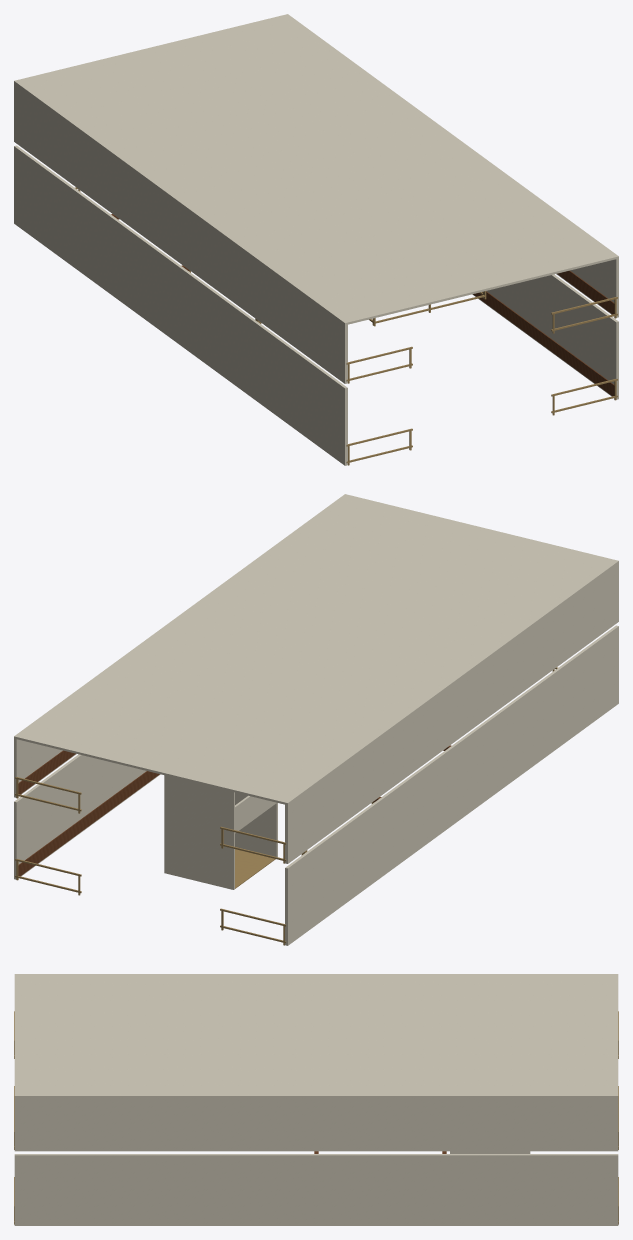
The model's file is AST-CIR-005_upper_link.glb.
The picture shows the model from 3 angles, top to bottom: view 1: azimuth 30°, elevation 25°; view 2: azimuth 150°, elevation 25°; view 3: azimuth 270°, elevation 25°; orthographic projection. The views are drawn at different scales.
Visible parts, largest first — view 1: CORE_TopCover, CORE_OuterWall_00_-1, CORE_OuterWall_01_-1, CORE_OuterWall_00_1, CORE_WallDado_00_1, CORE_OuterWall_01_1, CORE_WallDado_01_1; view 2: CORE_TopCover, CORE_OuterWall_00_-1, CORE_OuterWall_01_-1, CORE_ShaftNorth, CORE_OuterWall_00_1, CORE_WallDado_00_1, CORE_ShaftSouth, CORE_OuterWall_01_1, CORE_PitPan, CORE_GateSpandrel_00, CORE_WallDado_01_1; view 3: CORE_TopCover, CORE_OuterWall_00_1, CORE_OuterWall_01_1, CORE_ShaftRear.
Part boxes in pixels (<box>): CORE_TopCover: <box>14,14,618,325</box>; CORE_OuterWall_00_-1: <box>14,145,347,465</box>; CORE_OuterWall_01_-1: <box>14,83,347,383</box>; CORE_OuterWall_00_1: <box>472,274,618,399</box>; CORE_WallDado_00_1: <box>473,291,614,396</box>; CORE_OuterWall_01_1: <box>556,258,618,317</box>; CORE_WallDado_01_1: <box>557,270,614,314</box>; CORE_TopCover: <box>14,494,618,805</box>; CORE_OuterWall_00_-1: <box>285,625,618,945</box>; CORE_OuterWall_01_-1: <box>285,563,618,863</box>; CORE_ShaftNorth: <box>164,725,234,889</box>; CORE_OuterWall_00_1: <box>14,754,160,879</box>; CORE_WallDado_00_1: <box>18,771,159,876</box>; CORE_ShaftSouth: <box>207,694,277,857</box>; CORE_OuterWall_01_1: <box>14,738,76,797</box>; CORE_PitPan: <box>235,849,275,888</box>; CORE_GateSpandrel_00: <box>231,795,276,834</box>; CORE_WallDado_01_1: <box>18,750,75,794</box>; CORE_TopCover: <box>14,974,618,1097</box>; CORE_OuterWall_00_1: <box>14,1154,618,1225</box>; CORE_OuterWall_01_1: <box>14,1098,618,1151</box>; CORE_ShaftRear: <box>450,1049,530,1153</box>.
Bounding box in the file's own units: 15.76 × 8.09 × 33.08.
4 materials, 3 textured.
